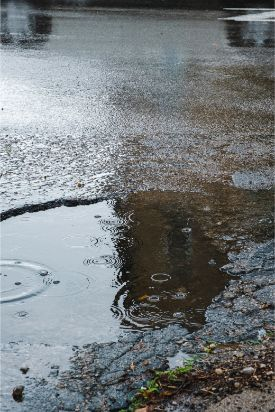pothole: (0, 177, 253, 352)
